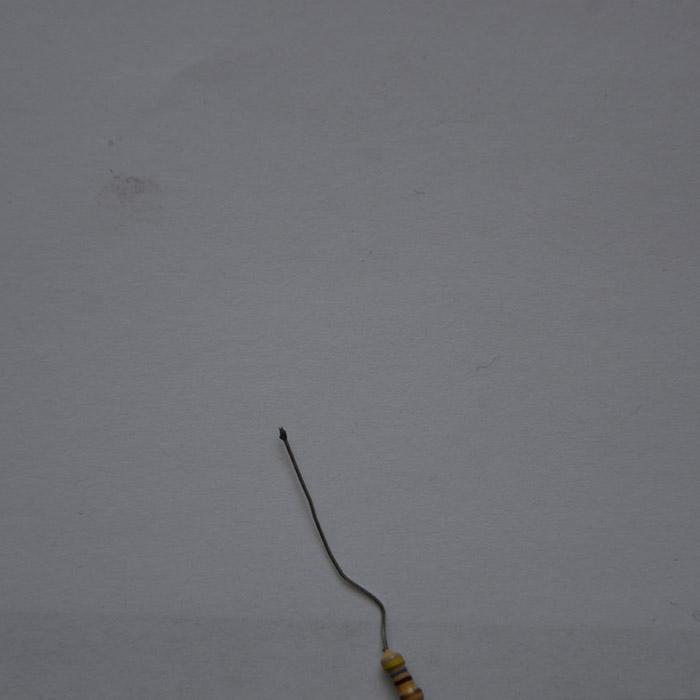resistor: (380, 646, 422, 700)
